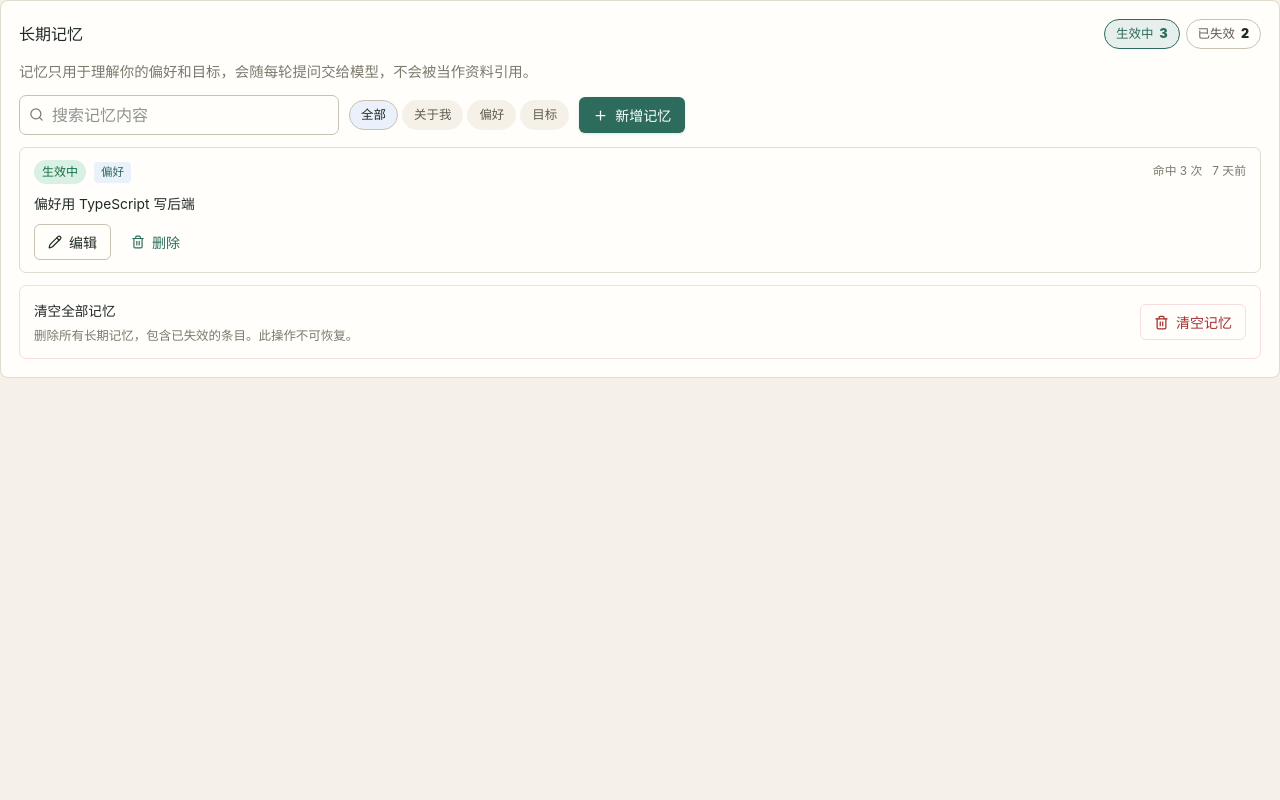
Test: MemorySection › asks for confirmation before deleting a memory
Click the button "删除": (156, 242) left=117, top=224, right=194, bottom=260
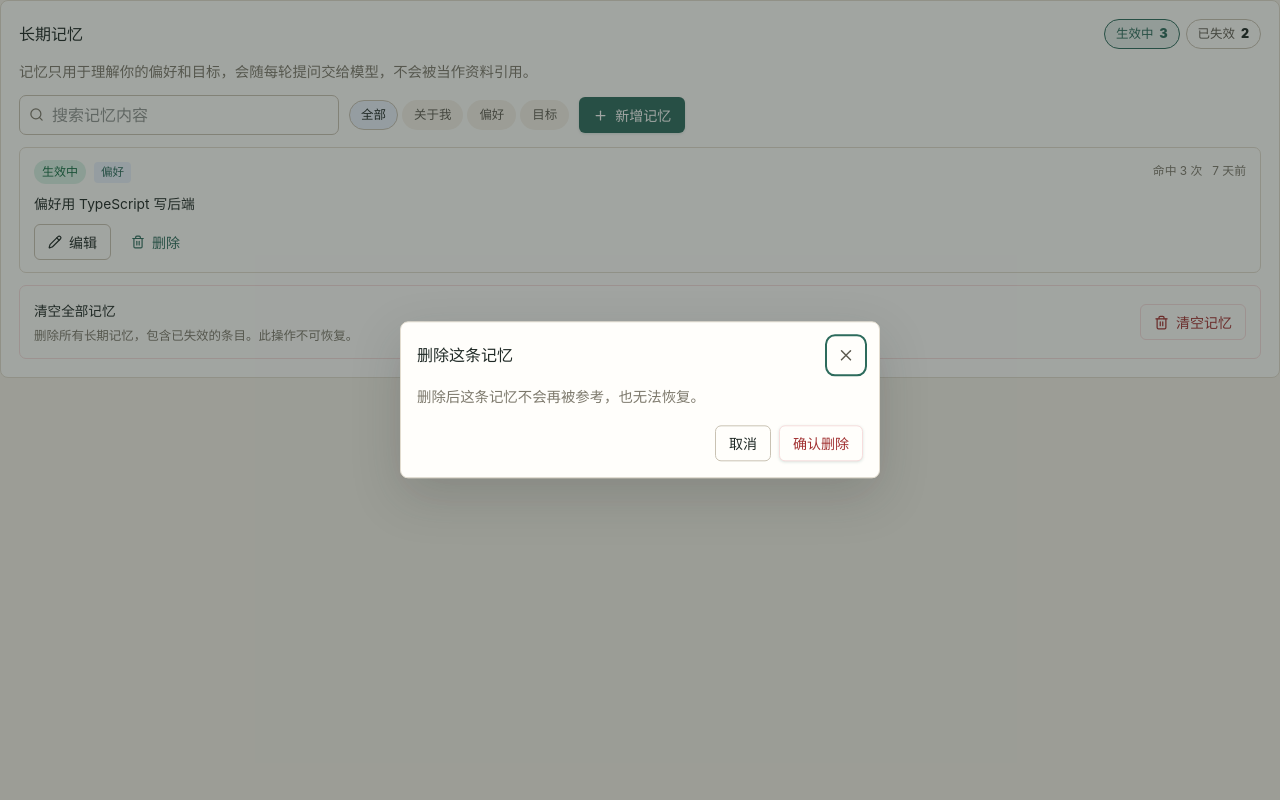
Now the heading "删除这条记忆" is shown, box left=417, top=345, right=513, bottom=366
Click the button "确认删除": (821, 444) left=779, top=426, right=863, bottom=462
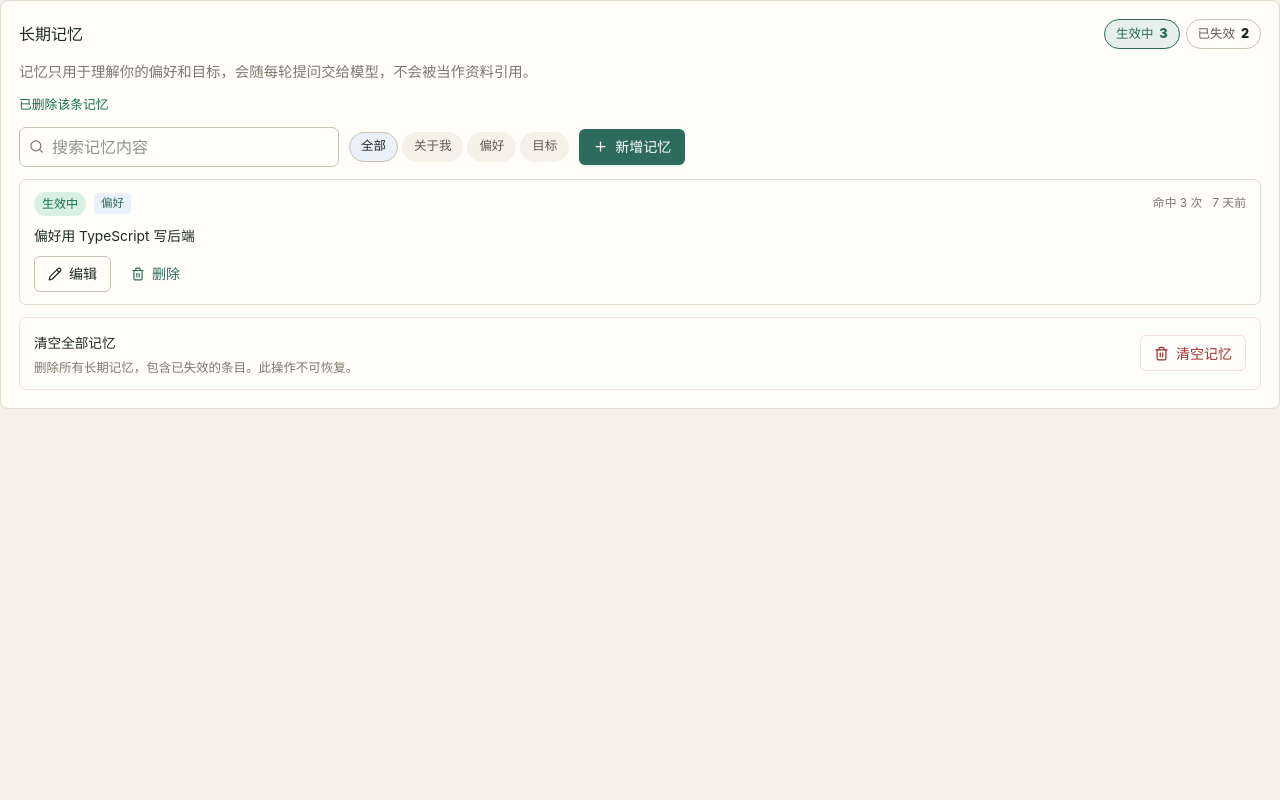
Now the text "已删除该条记忆" is shown, box left=19, top=97, right=109, bottom=112
